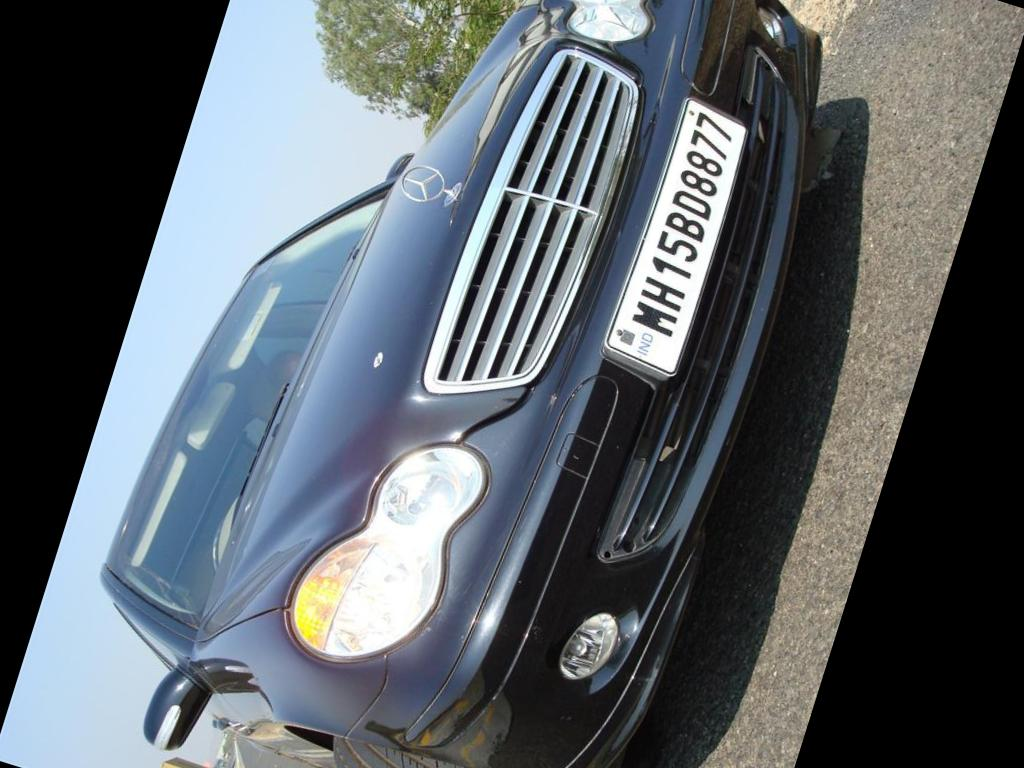plate: (595, 85, 762, 386)
